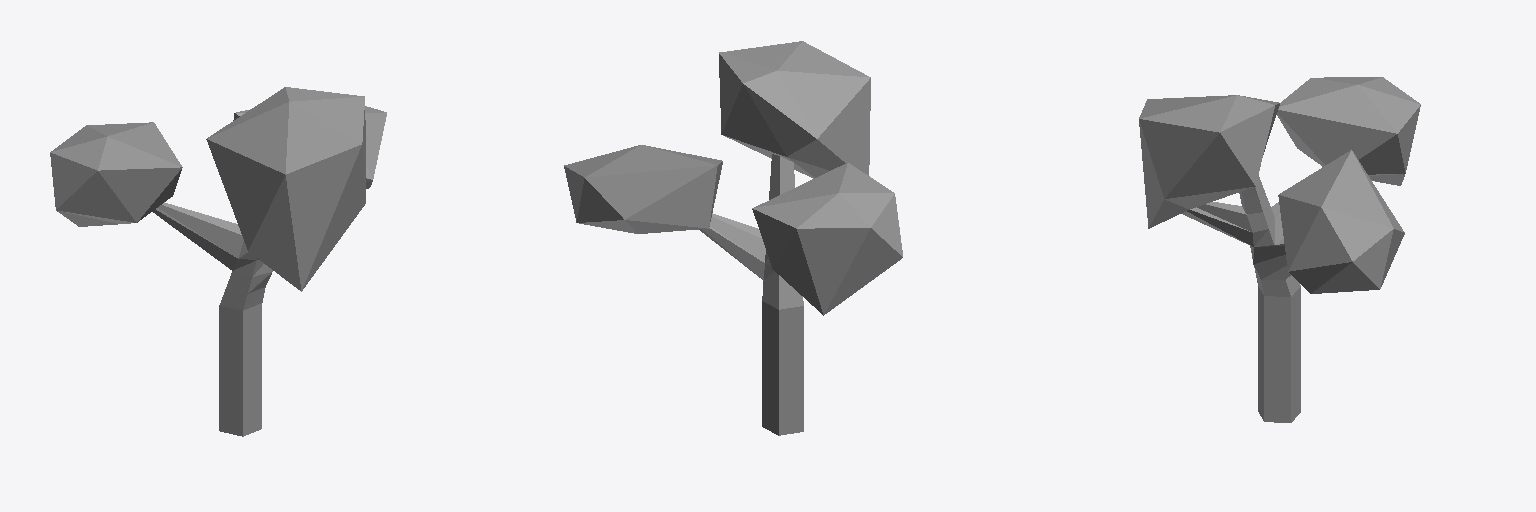
Rendered from lptree.obj.
3 views of the same model, side by side, from view 1: azimuth 30°, elevation 25°; view 2: azimuth 150°, elevation 25°; view 3: azimuth 270°, elevation 25° (orthographic).
Parts seen in each view (by area): view 1: leaf2_Icosphere.009, leaf3_Icosphere.010, Tree.001_Cylinder.005, leaf1_Icosphere.011; view 2: leaf2_Icosphere.009, leaf3_Icosphere.010, leaf1_Icosphere.011, Tree.001_Cylinder.005; view 3: leaf2_Icosphere.009, leaf1_Icosphere.011, leaf3_Icosphere.010, Tree.001_Cylinder.005.
Boxes of the visible parts, box(x1,y1,x2,y2) form: leaf2_Icosphere.009: box(206, 87, 365, 291); leaf3_Icosphere.010: box(50, 122, 182, 226); Tree.001_Cylinder.005: box(152, 202, 272, 436); leaf1_Icosphere.011: box(233, 106, 386, 188); leaf2_Icosphere.009: box(719, 41, 870, 178); leaf3_Icosphere.010: box(752, 163, 902, 315); leaf1_Icosphere.011: box(564, 145, 722, 233); Tree.001_Cylinder.005: box(699, 154, 803, 435); leaf2_Icosphere.009: box(1139, 95, 1279, 228); leaf1_Icosphere.011: box(1278, 150, 1404, 293); leaf3_Icosphere.010: box(1277, 77, 1420, 185); Tree.001_Cylinder.005: box(1182, 175, 1300, 422).
Bounding box in the file's own units: 2.22 × 2.11 × 1.62.